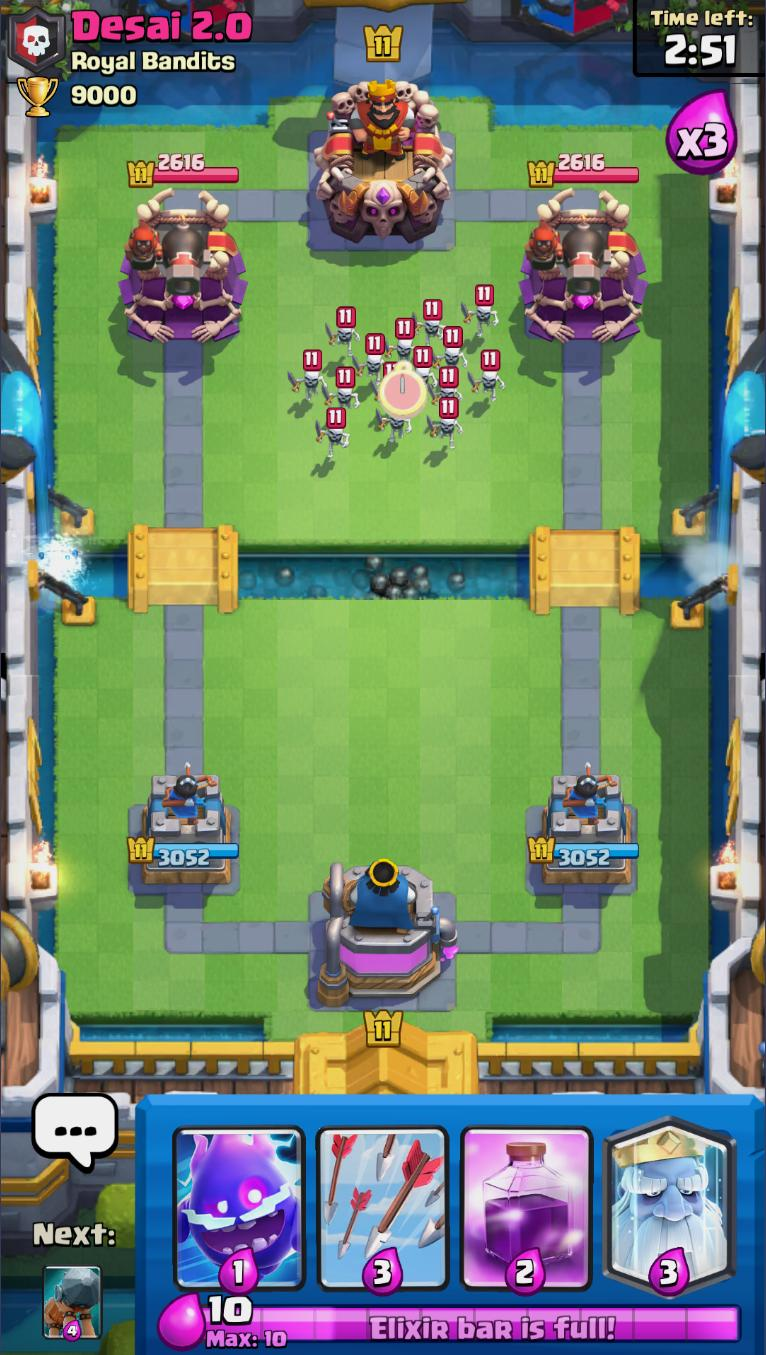ArrowDeck: (311, 1099, 454, 1293)
BattleRamNext: (41, 1263, 103, 1340)
Cannoneer: (524, 211, 610, 296), (124, 211, 207, 297)
ElectroSpiritDeck: (171, 1099, 310, 1294)
Elixir: (201, 1294, 746, 1349)
EnemyTower: (517, 184, 650, 344), (117, 187, 249, 343)
KingTower: (311, 77, 457, 246)
MyKingTower: (314, 857, 460, 1004)
MyPrincessTower: (527, 769, 643, 891), (126, 770, 241, 890)
MyPrincessTowerHP: (524, 831, 643, 871), (126, 831, 240, 870)
RageDeck: (454, 1099, 600, 1293)
RoyaleGhostDeck: (600, 1097, 740, 1293)
Skeleton: (462, 349, 508, 407), (349, 335, 388, 400), (460, 285, 502, 341), (288, 353, 327, 412), (432, 325, 465, 386), (323, 306, 363, 356), (417, 300, 447, 366), (314, 410, 351, 463), (429, 402, 463, 455), (389, 319, 421, 373), (373, 403, 411, 444), (331, 367, 361, 417), (427, 369, 466, 403)
TowerPrincessHP: (526, 151, 641, 190), (124, 151, 240, 187)
